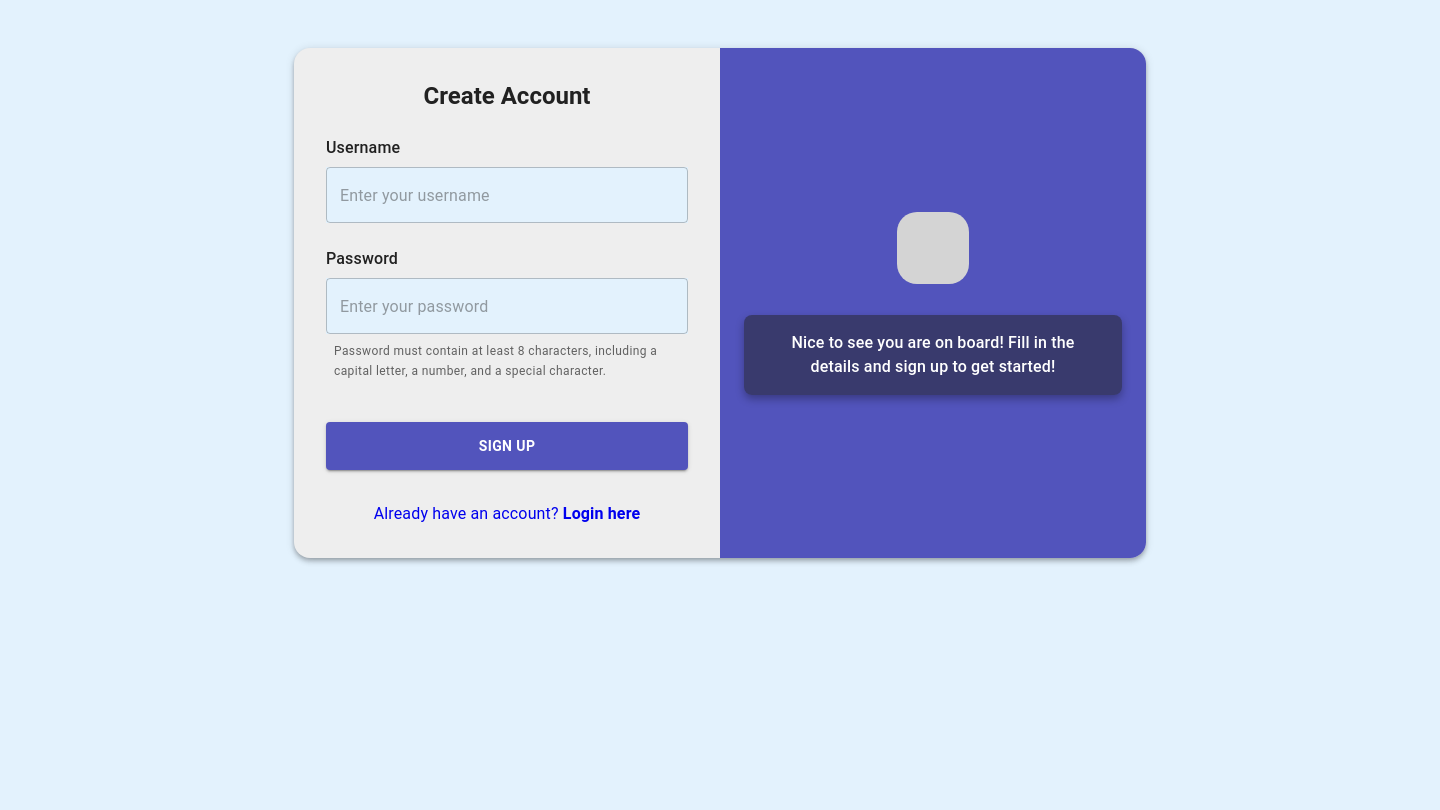
AddUser component › should add user successfully
The width and height of the screenshot is (1440, 810).
In the field labelled "Username": (507, 195) [326,167,688,223], type "TestUser1"
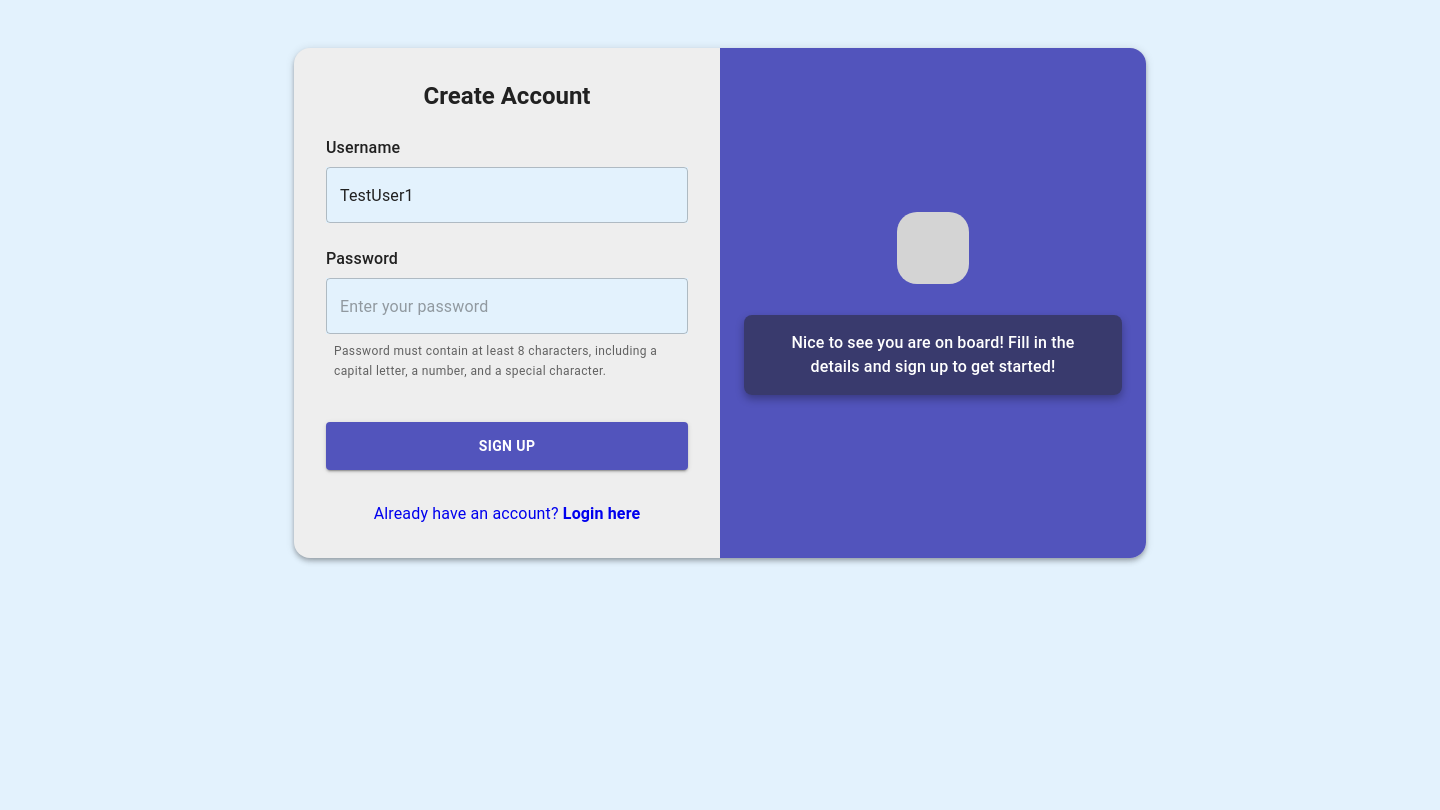
In the password field labelled "Password": (507, 306) [326,278,688,334], type "TestPassword1!"
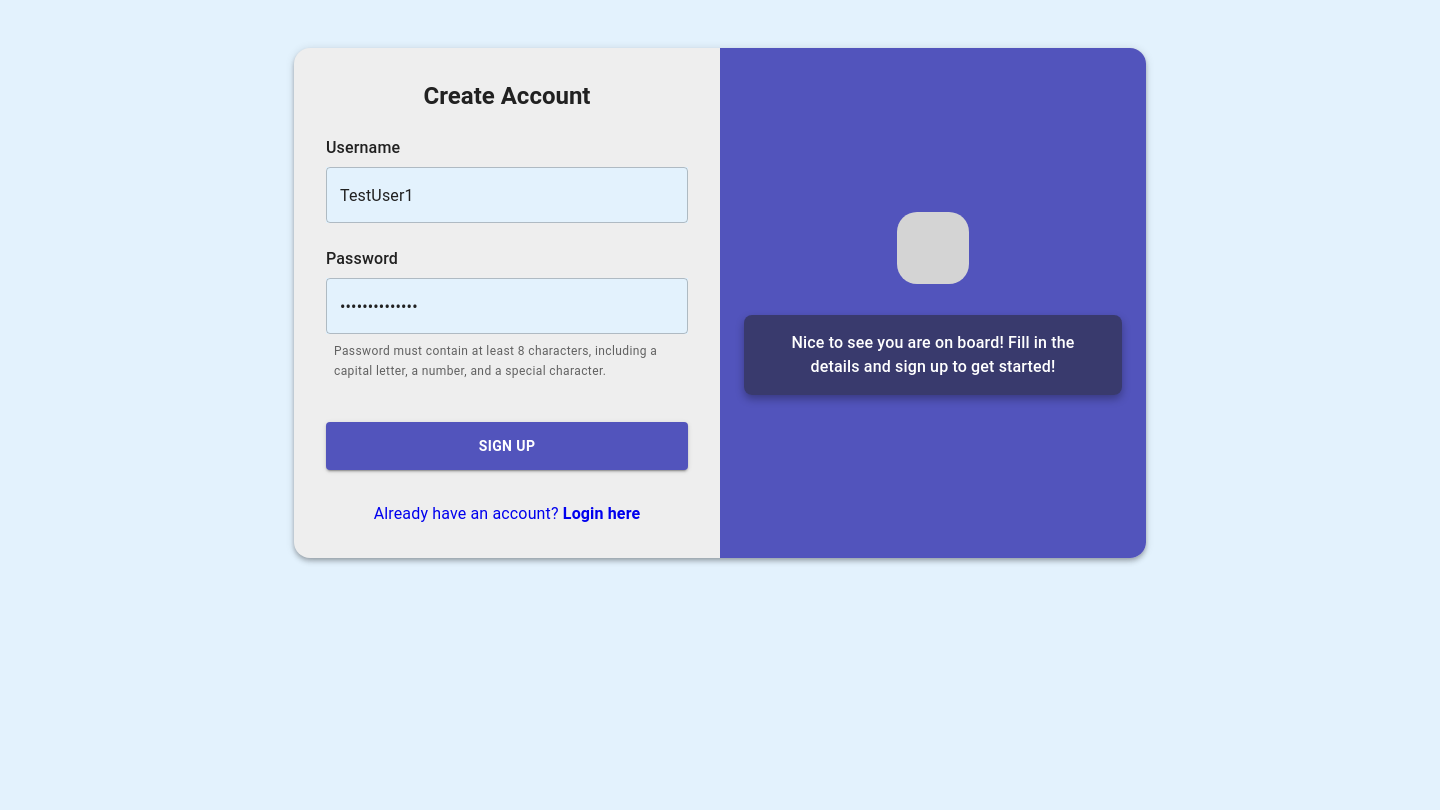
Click the button "Sign Up": (507, 446) [326,422,688,470]
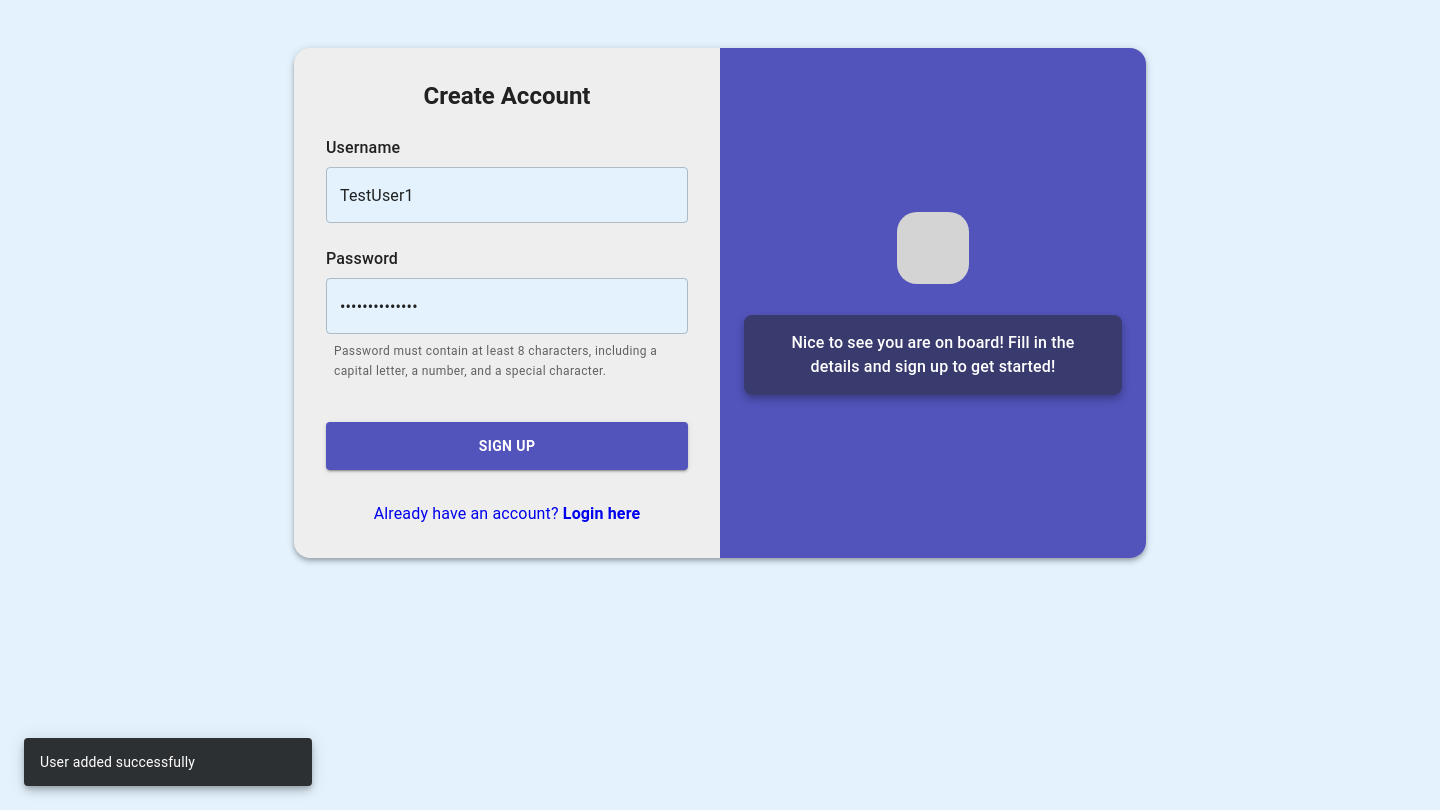
Check: the text "User added successfully" is shown, box [40,754,195,770]
